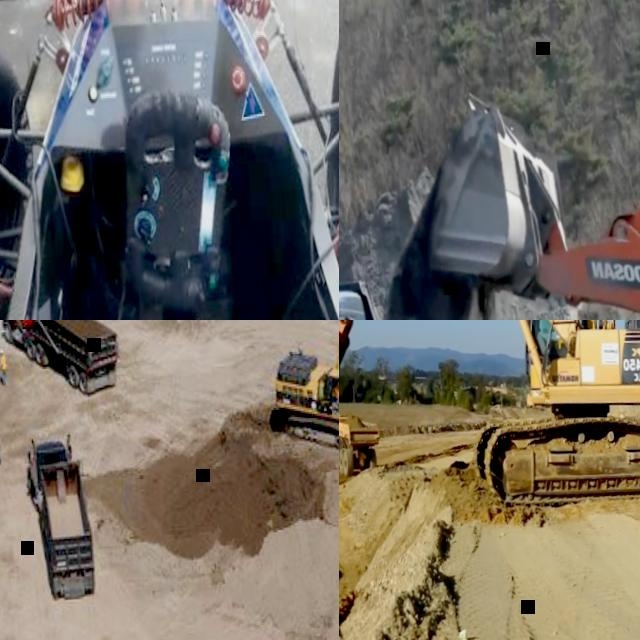Hardhat: (0, 348, 3, 354)
Person: (0, 347, 8, 385), (333, 380, 339, 402)
Safety Vest: (332, 388, 339, 402), (0, 355, 6, 370)
machinery: (339, 320, 640, 521), (410, 76, 640, 320), (22, 432, 98, 604), (260, 320, 339, 465), (0, 320, 121, 401), (339, 406, 382, 477)
vehicle: (0, 0, 339, 320)
